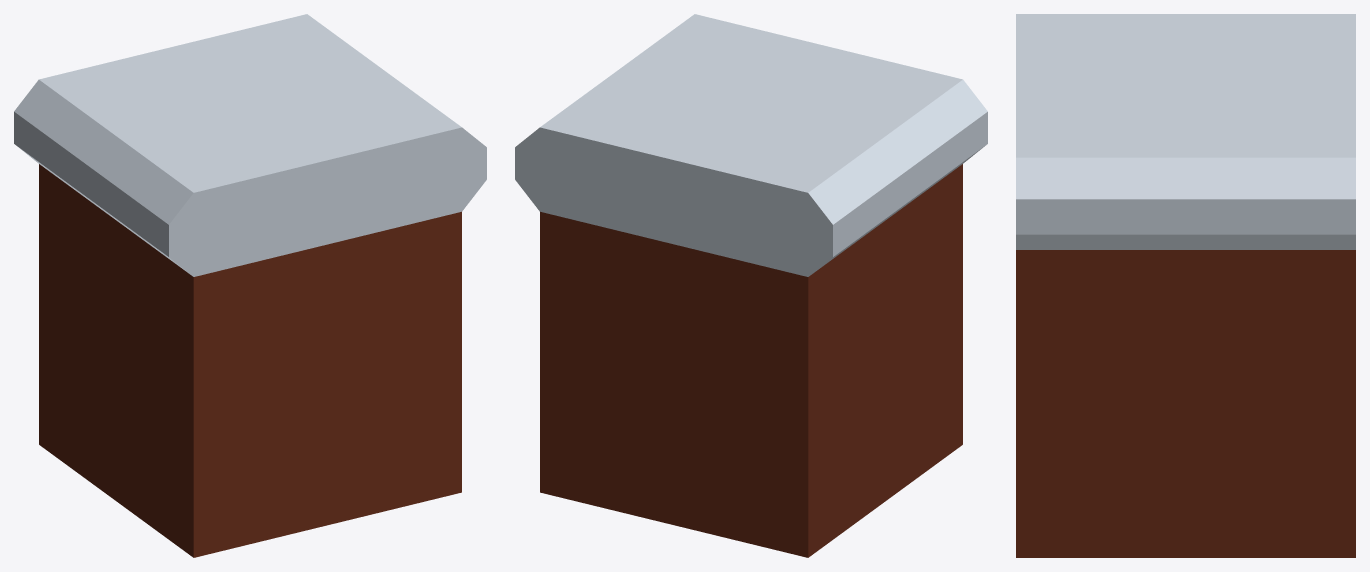
Rendered from SnowDEdge.fbx.
The picture shows the model from 3 angles, left to right: view 1: azimuth 30°, elevation 25°; view 2: azimuth 150°, elevation 25°; view 3: azimuth 270°, elevation 25°; orthographic projection. The views are drawn at different scales.
Visible parts, largest first — view 1: Cube.004; view 2: Cube.004; view 3: Cube.004.
Part boxes in pixels (x1=…): Cube.004: x1=14, y1=14, x2=486, y2=557; Cube.004: x1=515, y1=14, x2=987, y2=557; Cube.004: x1=1016, y1=14, x2=1355, y2=557.
Size of the model in its own units: 119 by 130 by 100.
